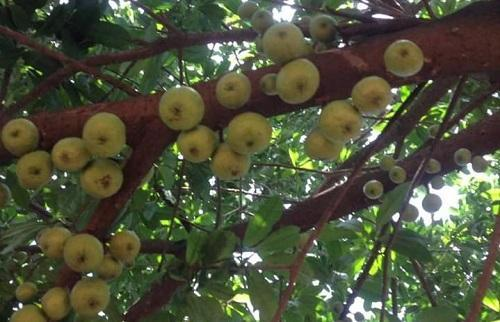apple: (272, 58, 319, 104), (158, 85, 204, 131), (227, 111, 273, 156), (83, 112, 125, 156), (264, 19, 306, 63), (320, 98, 358, 142), (351, 75, 392, 115), (71, 277, 111, 317), (62, 232, 102, 272), (215, 70, 253, 111), (382, 40, 423, 77), (178, 125, 218, 162), (14, 150, 51, 190), (3, 118, 38, 154), (303, 129, 343, 160), (81, 164, 121, 195), (50, 137, 90, 168), (110, 229, 141, 261), (39, 289, 71, 319), (38, 226, 70, 256)
